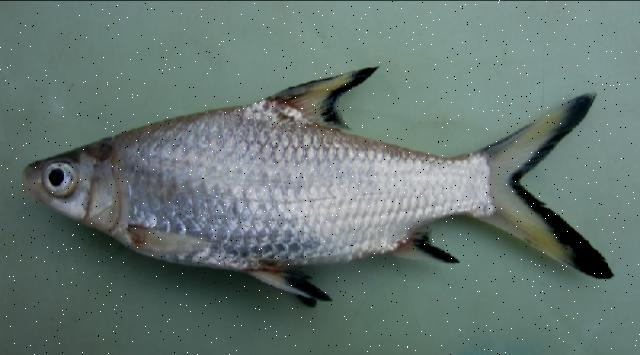Mulut: (1, 138, 74, 228)
Sirip Anal: (373, 212, 472, 280)
Sirip Dada: (114, 206, 226, 270), (237, 254, 343, 316)
Sirip Ekor: (457, 78, 631, 292)
Sirip Punggung: (248, 52, 394, 152)
